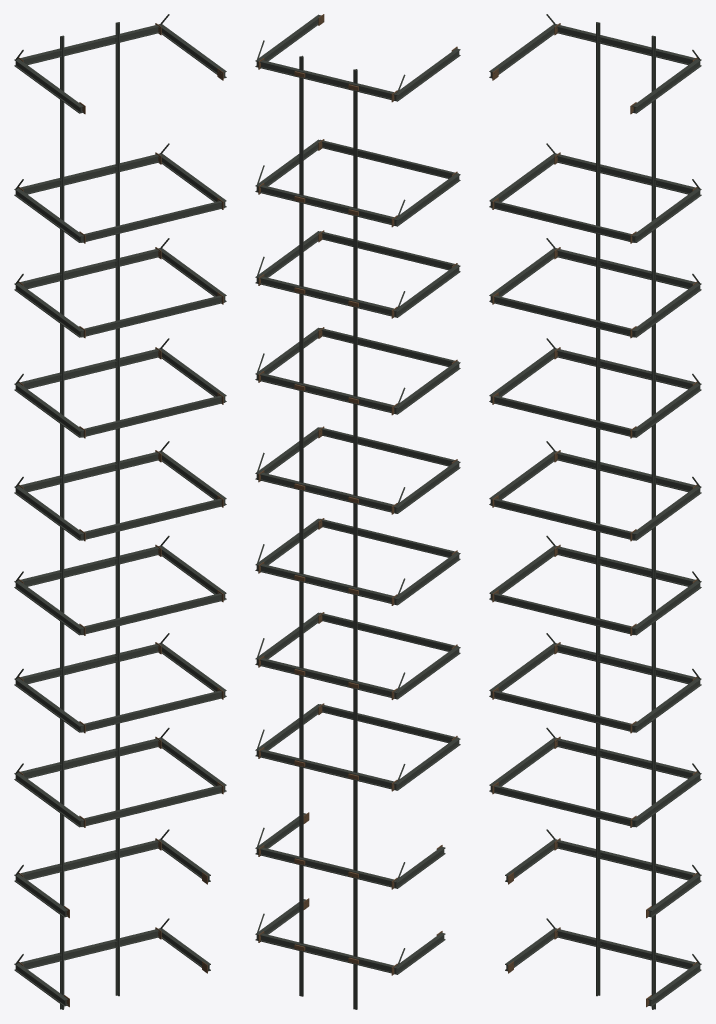
The model's file is SHAFT_Steelwork.fbx.
The picture shows the model from 3 angles, left to right: view 1: azimuth 30°, elevation 25°; view 2: azimuth 150°, elevation 25°; view 3: azimuth 330°, elevation 25°; orthographic projection. The views are drawn at different scales.
Visible parts, largest first — view 1: SHAFT_Steelwork; view 2: SHAFT_Steelwork; view 3: SHAFT_Steelwork.
Boxes of the visible parts, box(x1,y1,x2,y2) form: SHAFT_Steelwork: box(14, 14, 226, 1009); SHAFT_Steelwork: box(255, 14, 460, 1009); SHAFT_Steelwork: box(489, 14, 701, 1009).
Bounding box in the file's own units: 5.54 × 35.03 × 4.4.
